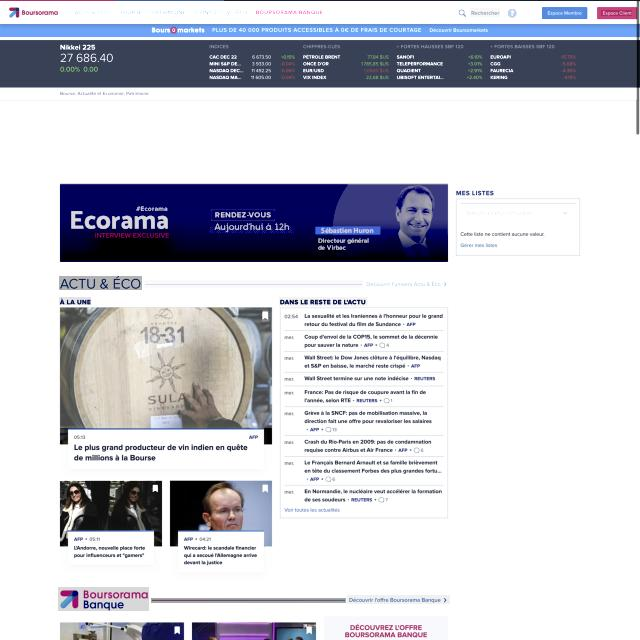CheckBox: (347, 595, 450, 604), (365, 280, 448, 288), (542, 7, 588, 19), (597, 7, 637, 19)
ImageView: (60, 183, 448, 262), (0, 24, 636, 37)
SeekBar: (59, 90, 150, 98)
accordion: (144, 280, 363, 288), (151, 598, 346, 603)
alert: (460, 204, 576, 224)
bag: (0, 1, 637, 100)
breadcrumbs: (279, 297, 368, 306), (59, 297, 91, 305)
carousel: (506, 7, 518, 19), (457, 8, 467, 18), (262, 310, 269, 322), (152, 483, 159, 493)
copy: (60, 308, 272, 428), (60, 480, 162, 531)
data feed: (547, 9, 583, 17), (470, 8, 500, 17), (601, 10, 632, 16), (520, 9, 534, 17)
date picker: (58, 587, 149, 611), (6, 5, 61, 19)
decoration: (72, 6, 326, 18)
image: (59, 276, 142, 290)
